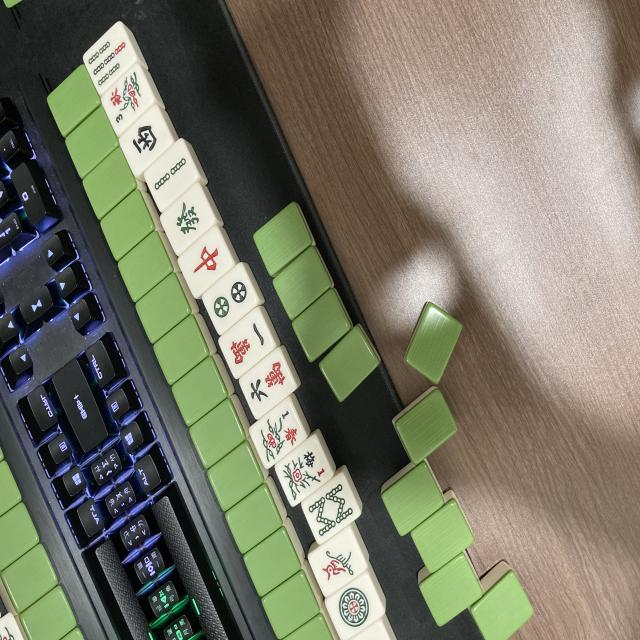1B: (309, 531, 371, 596)
1C: (218, 306, 278, 378)
1D: (325, 574, 386, 640)
1F: (272, 437, 335, 509)
1S: (250, 401, 310, 471)
2B: (142, 140, 204, 212)
2D: (199, 261, 260, 335)
3S: (98, 65, 160, 135)
6C: (239, 349, 300, 420)
7B: (81, 29, 141, 92)
8B: (302, 478, 361, 544)
GD: (159, 184, 219, 255)
RD: (178, 227, 238, 297)
WW: (119, 107, 178, 173)
